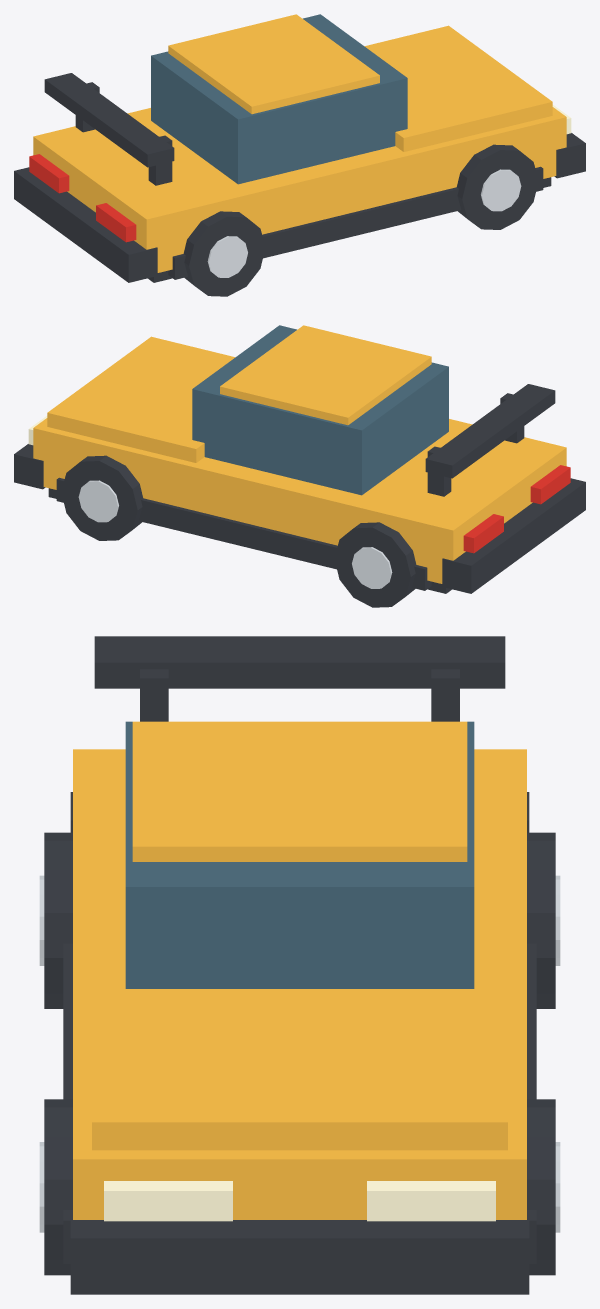
Rendered from grx-rally.gltf.
3 renders of one model, top to bottom at view 1: azimuth 30°, elevation 25°; view 2: azimuth 150°, elevation 25°; view 3: azimuth 270°, elevation 25°, orthographic. The views are drawn at different scales.
Parts seen in each view (by area): view 1: Main body, Cabin glass, Hood, Roof, Tire (×2), Rear bumper, Left skirt, Spoiler, Rim (×2), Front bumper, Taillight R, Taillight L (+1 smaller); view 2: Main body, Cabin glass, Hood, Roof, Tire (×2), Rear bumper, Right skirt, Spoiler, Rim (×2), Front bumper, Taillight L, Taillight R (+1 smaller); view 3: Hood, Main body, Roof, Cabin glass, Front bumper, Spoiler, Tire (×4), Headlight L, Headlight R, Left skirt, Right skirt, Spoiler L (+1 smaller).
Part boxes in pixels (x1,y1,x2,y2): Main body: (33, 107, 566, 272); Cabin glass: (151, 14, 407, 184); Hood: (364, 25, 552, 151); Roof: (168, 14, 379, 114); Tire (×2): (183, 144, 538, 296); Rear bumper: (14, 167, 157, 282); Left skirt: (168, 166, 543, 279); Spoiler: (44, 73, 174, 167); Rim (×2): (207, 169, 521, 277); Front bumper: (554, 133, 585, 178); Taillight R: (29, 154, 69, 193); Taillight L: (96, 203, 136, 242); Main body: (33, 418, 566, 583); Cabin glass: (192, 325, 448, 495); Hood: (47, 336, 235, 462); Roof: (220, 325, 431, 425); Tire (×2): (61, 455, 416, 607); Rear bumper: (442, 478, 585, 593); Right skirt: (56, 477, 431, 590); Spoiler: (425, 384, 555, 478); Rim (×2): (78, 480, 392, 588); Front bumper: (14, 444, 45, 489); Taillight L: (530, 465, 570, 504); Taillight R: (463, 514, 503, 553); Hood: (92, 976, 507, 1150); Main body: (73, 749, 526, 1219); Roof: (132, 721, 467, 861); Cabin glass: (125, 721, 474, 988); Front bumper: (70, 1210, 529, 1294); Spoiler: (94, 636, 505, 688); Tire (×4): (44, 832, 555, 1275); Headlight L: (104, 1181, 232, 1221); Headlight R: (367, 1181, 495, 1221); Left skirt: (63, 943, 72, 1263); Right skirt: (527, 943, 536, 1263); Spoiler L: (140, 669, 168, 721).
Size of the model in its own units: 4.42 by 1.5 by 2.18.
